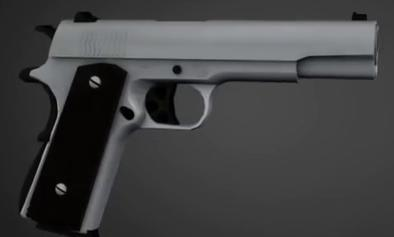gun: (1, 1, 394, 237)
